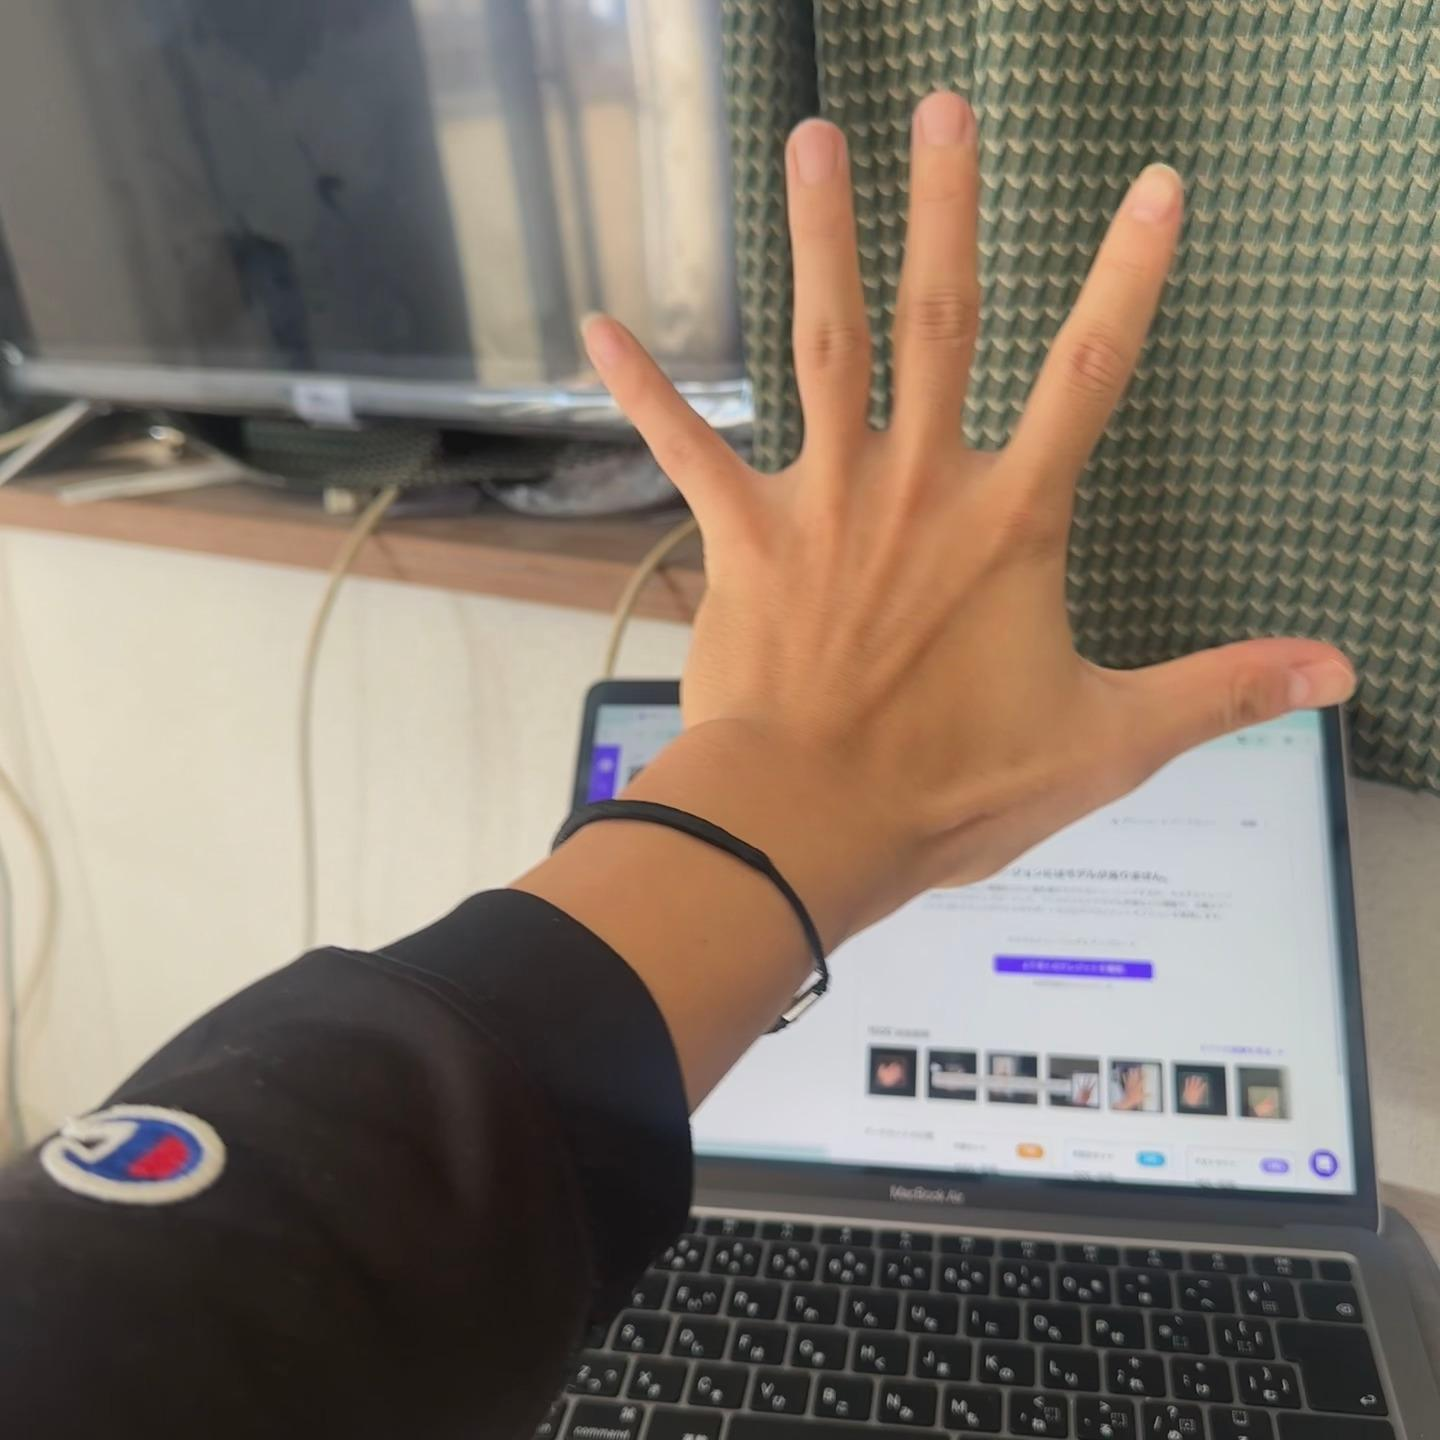without_gloves: (612, 5, 1440, 1060)
